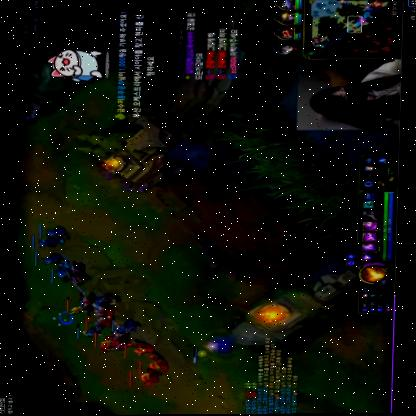donation: (44, 12, 156, 121)
streamer: (296, 61, 401, 131)
